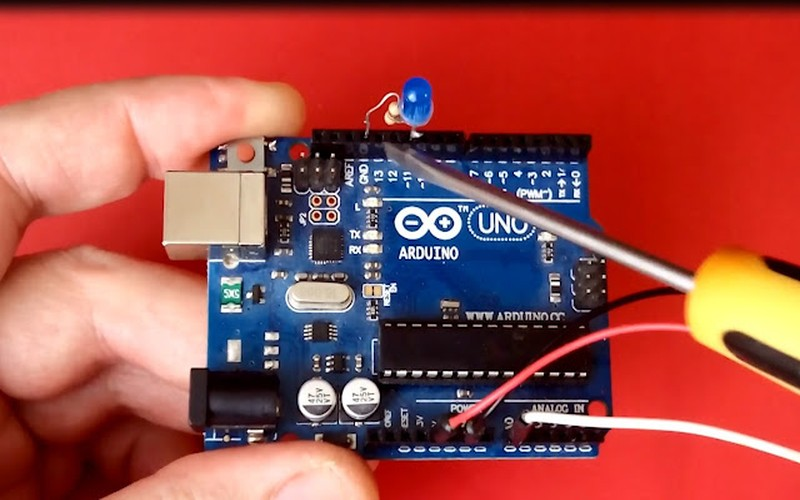Regulator: (161, 101, 624, 458)
